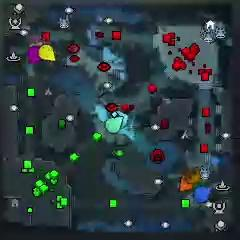p1: (193, 185, 212, 203)
p2: (105, 115, 124, 134)
p3: (28, 45, 42, 64)
p4: (38, 44, 55, 62)
p5: (179, 176, 194, 192)
x3: (112, 110, 128, 127)
x5: (183, 165, 202, 184)
